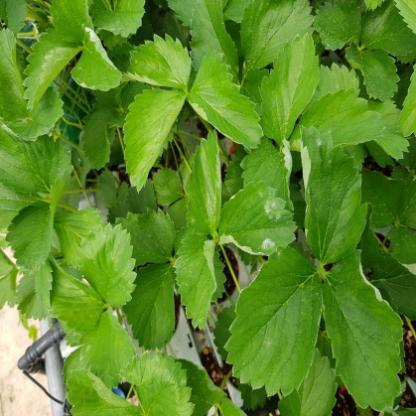Strawberry_Powdery_Mildew_Leaf: (222, 244, 323, 398), (321, 249, 408, 415), (300, 124, 368, 264), (218, 180, 298, 256), (238, 136, 295, 214), (184, 128, 222, 238), (70, 23, 123, 92)
